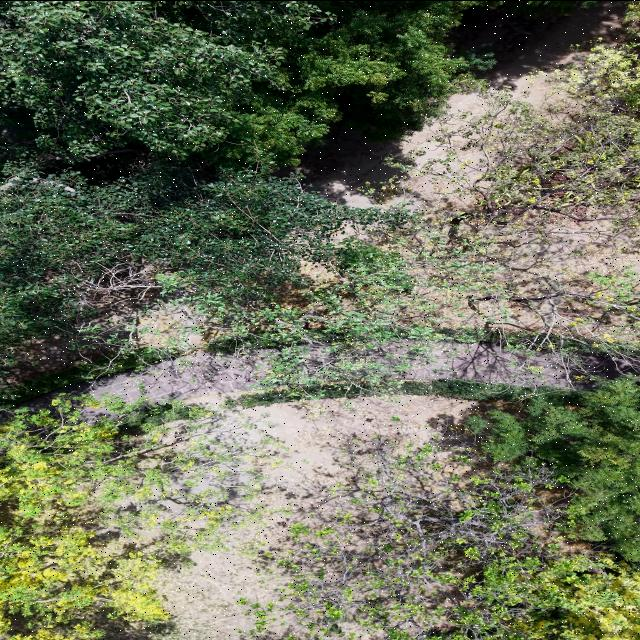DRY_AREA: (27, 349, 476, 639), (62, 349, 478, 639), (155, 395, 488, 639), (157, 395, 477, 639), (301, 1, 625, 217), (385, 94, 638, 340), (28, 307, 278, 407), (454, 1, 624, 104), (456, 1, 624, 104), (454, 1, 625, 92), (359, 340, 634, 387), (360, 341, 632, 386), (300, 123, 403, 206), (86, 288, 170, 346), (4, 334, 81, 384)
PATHWAYS: (363, 341, 634, 386)
VEGETATION_TREE: (0, 1, 639, 639), (0, 3, 637, 364), (2, 45, 637, 386), (2, 104, 637, 389), (2, 1, 492, 358), (245, 379, 639, 639), (2, 1, 488, 169), (247, 437, 639, 639), (0, 163, 395, 358), (412, 44, 639, 351), (0, 395, 275, 639), (248, 438, 562, 638), (421, 43, 639, 253), (0, 397, 168, 639), (423, 94, 639, 241), (467, 377, 639, 560)
